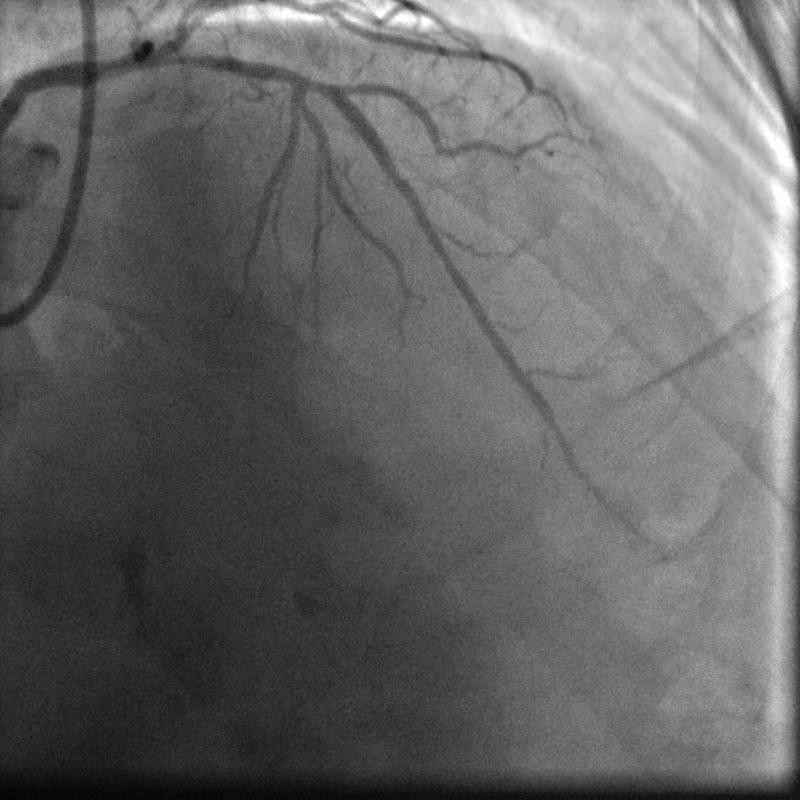Stenosis: (157, 49, 219, 72)
